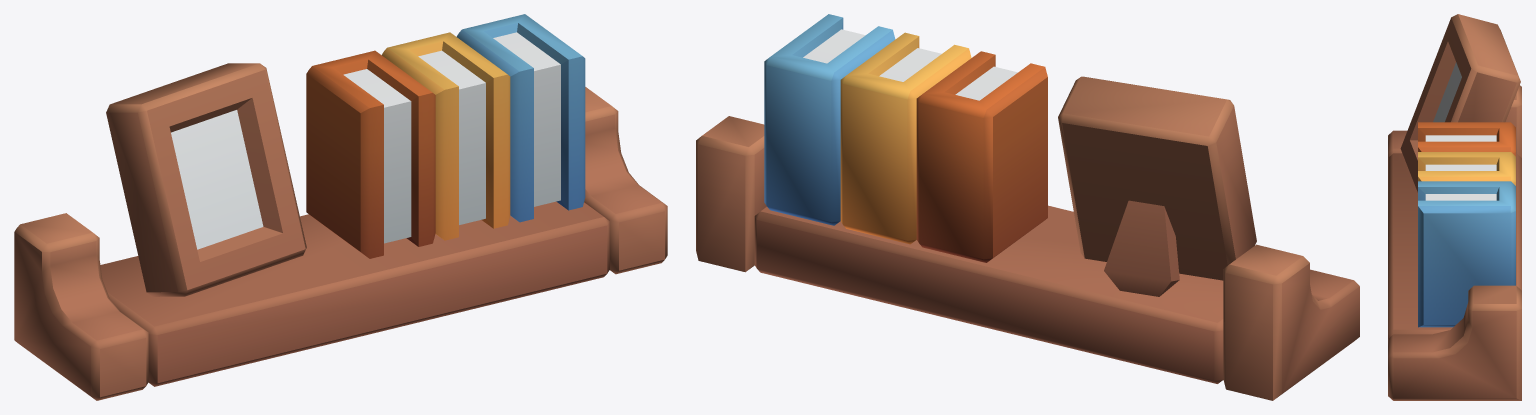
Rendered from shelf_B_large_decorated.obj.
3 renders of one model, left to right at view 1: azimuth 30°, elevation 25°; view 2: azimuth 150°, elevation 25°; view 3: azimuth 270°, elevation 25°, orthographic. The views are drawn at different scales.
Parts seen in each view (by area): view 1: shelf_B_large_decorated_Cube.050; view 2: shelf_B_large_decorated_Cube.050; view 3: shelf_B_large_decorated_Cube.050.
Part boxes in pixels (x1,y1,x2,y2): shelf_B_large_decorated_Cube.050: (14, 14, 667, 400); shelf_B_large_decorated_Cube.050: (696, 14, 1359, 400); shelf_B_large_decorated_Cube.050: (1388, 14, 1521, 400).
Size of the model in its own units: 2 by 0.8175 by 0.5.
Materials: 1 (1 with a texture image).
